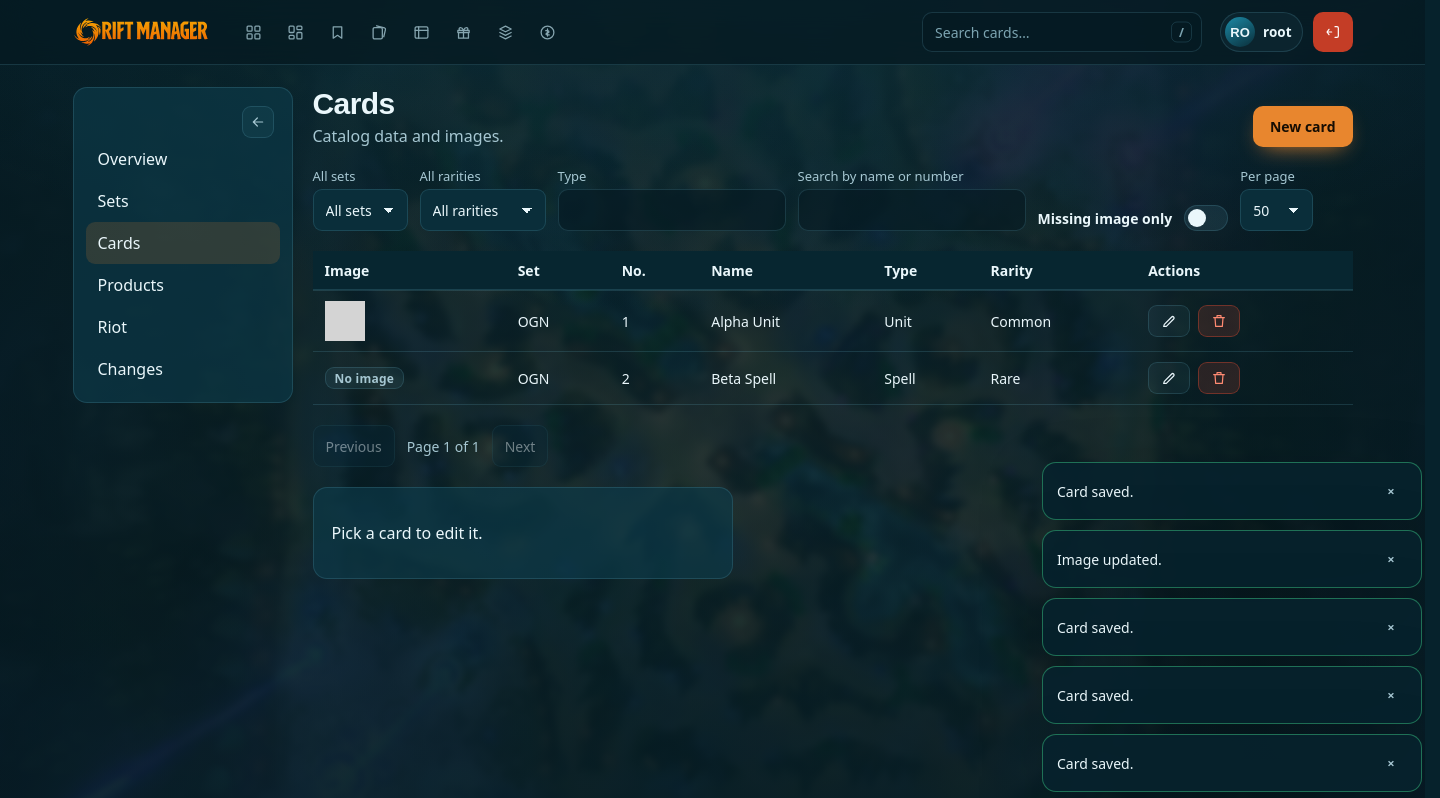
CardsAdminPage editor and row actions (owner feedback S20) › "Edit" opens the card in the editor and saves it at 1700 px
Click the button named "Edit Alpha Unit".
click(1169, 321)  # box left=1148, top=305, right=1190, bottom=337
(page scrolled)
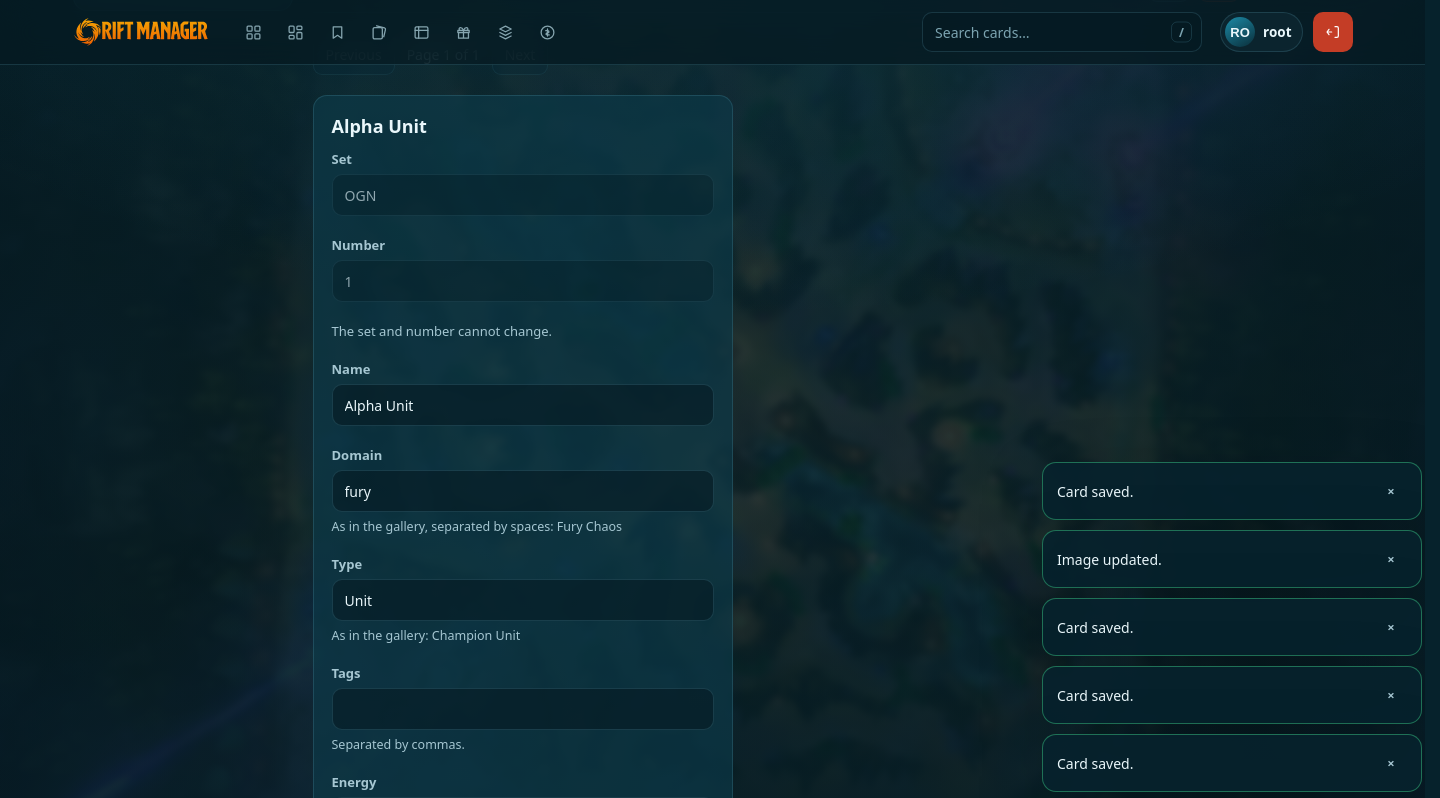
Now the field labelled "Name" holds "Alpha Unit"
Replace the text in the field labelled "Name" with "Alpha Prime" at coordinates (522, 405), box left=332, top=384, right=714, bottom=426
(page scrolled)
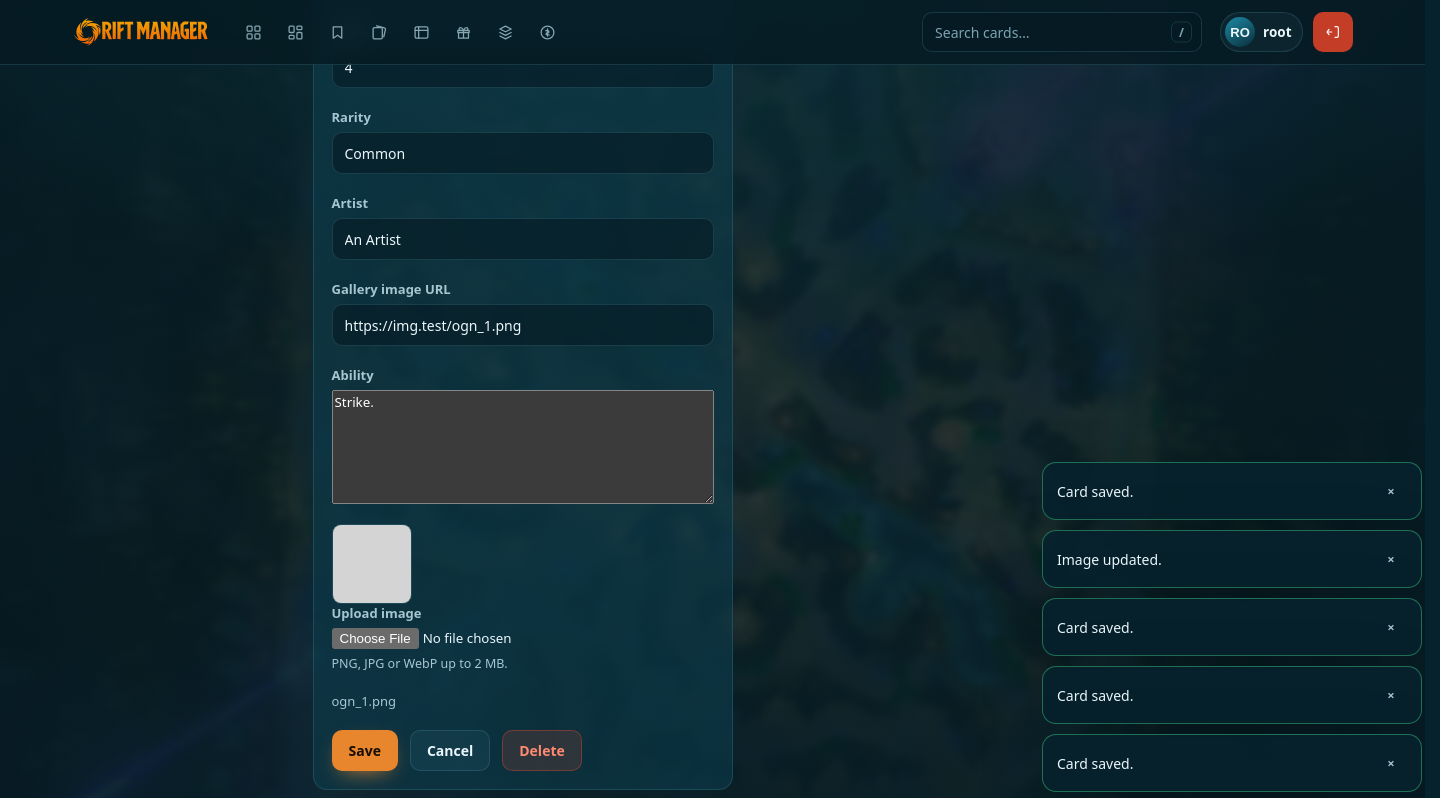
Click the button "Save".
click(365, 750)  # box left=332, top=730, right=398, bottom=771
(page scrolled)
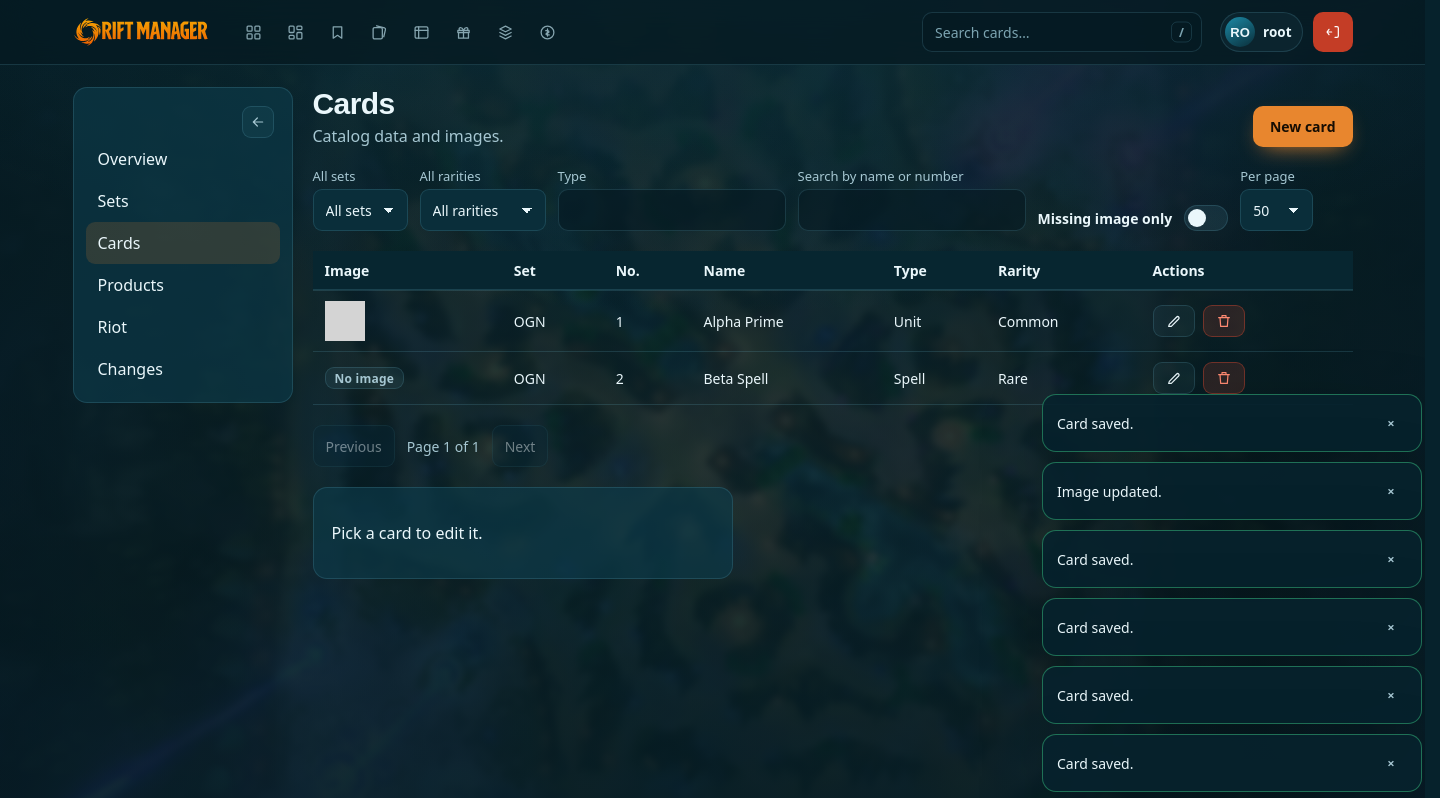
Expected: the 1st text "Card saved." is shown, left=1057, top=414, right=1133, bottom=432
Now the cell "Alpha Prime" is shown, box left=692, top=291, right=882, bottom=352
